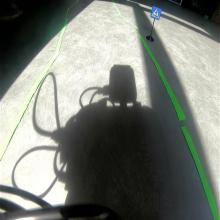crosswalk: (150, 6, 162, 20)
